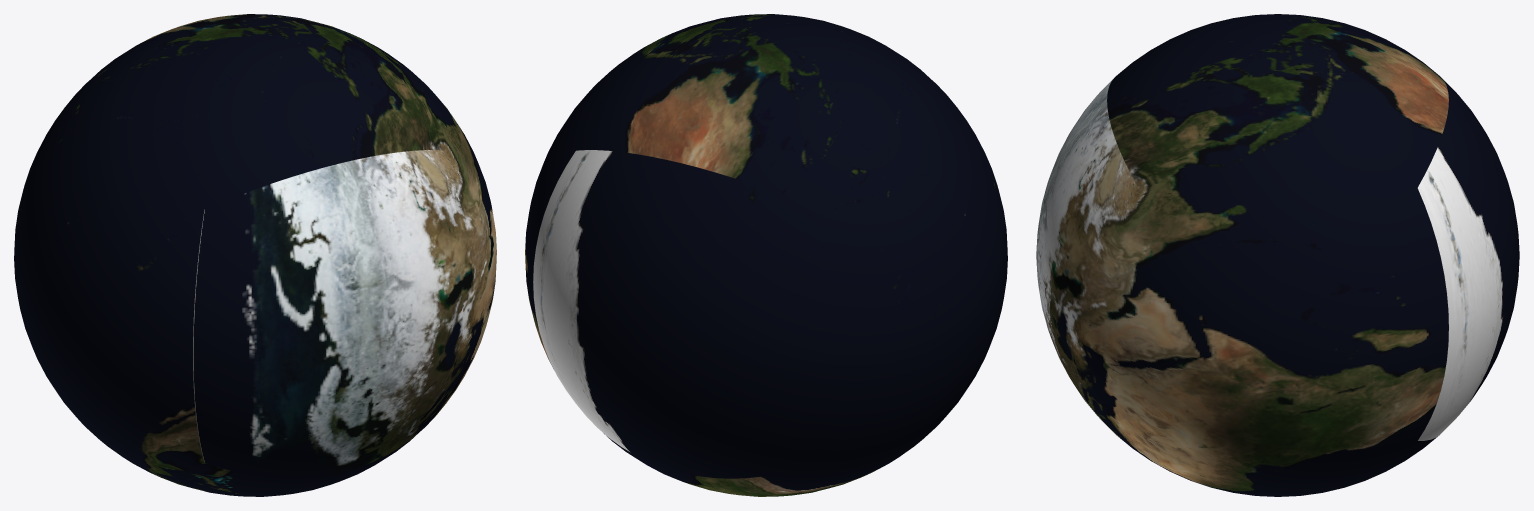
File: quad_Sphere_test.glb
3 views of the same model, side by side, from view 1: azimuth 30°, elevation 25°; view 2: azimuth 150°, elevation 25°; view 3: azimuth 270°, elevation 25° (orthographic).
Parts seen in each view (by area): view 1: Cube.002; view 2: Cube.002; view 3: Cube.002.
Boxes of the visible parts, x1,y1,x2,y2 form: Cube.002: (14,14,496,496); Cube.002: (525,14,1007,496); Cube.002: (1036,14,1519,496).
Bounding box in the file's own units: 2 × 2 × 2.
1 material, 1 textured.
